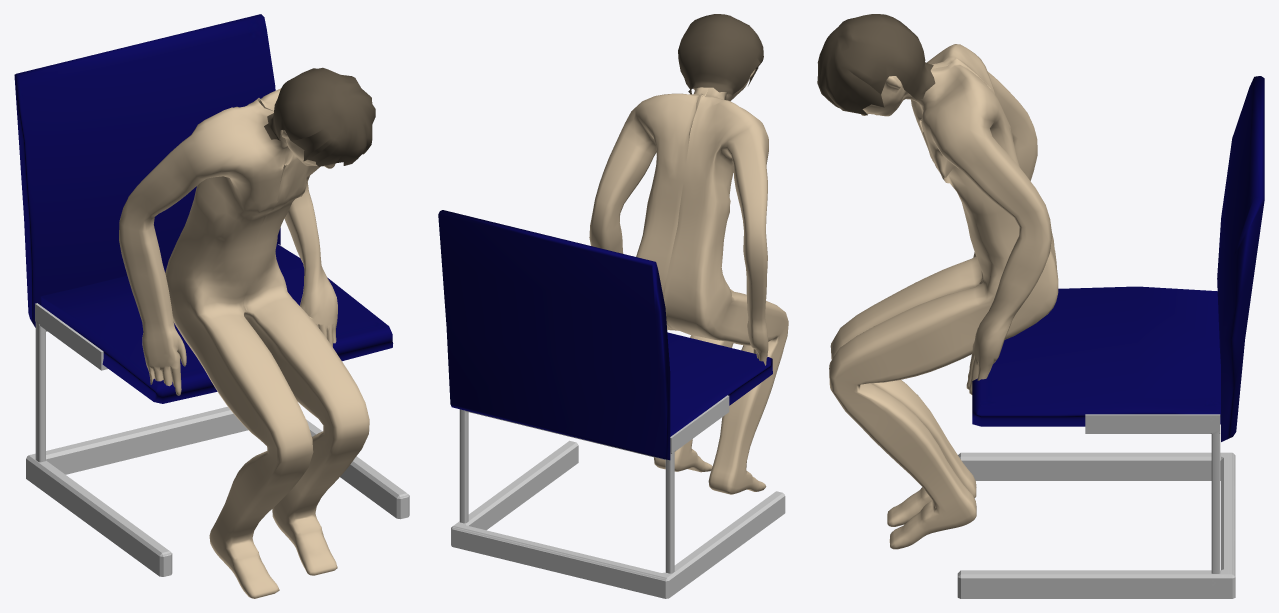
The model's file is sleep.fbx.
The picture shows the model from 3 angles, left to right: view 1: azimuth 30°, elevation 25°; view 2: azimuth 150°, elevation 25°; view 3: azimuth 270°, elevation 25°; orthographic projection. The views are drawn at different scales.
Parts seen in each view (by area): view 1: chair_1:polySurface2, polySurface16, polySurface15, polySurface12; view 2: chair_1:polySurface2, polySurface16, polySurface15, polySurface12; view 3: chair_1:polySurface2, polySurface15, polySurface16, polySurface12.
Part boxes in pixels (x1,y1,x2,y2): chair_1:polySurface2: (14,14,409,576); polySurface16: (119,100,333,598); polySurface15: (243,88,369,575); polySurface12: (264,67,375,166); chair_1:polySurface2: (438,210,785,598); polySurface16: (664,69,788,494); polySurface15: (589,87,733,472); polySurface12: (678,14,763,98); chair_1:polySurface2: (957,76,1264,598); polySurface15: (829,58,1058,549); polySurface16: (830,44,1054,526); polySurface12: (817,14,935,115).
Size of the model in its own units: 6.92 by 13.17 by 10.13.
Materials: 3 (1 with a texture image).
